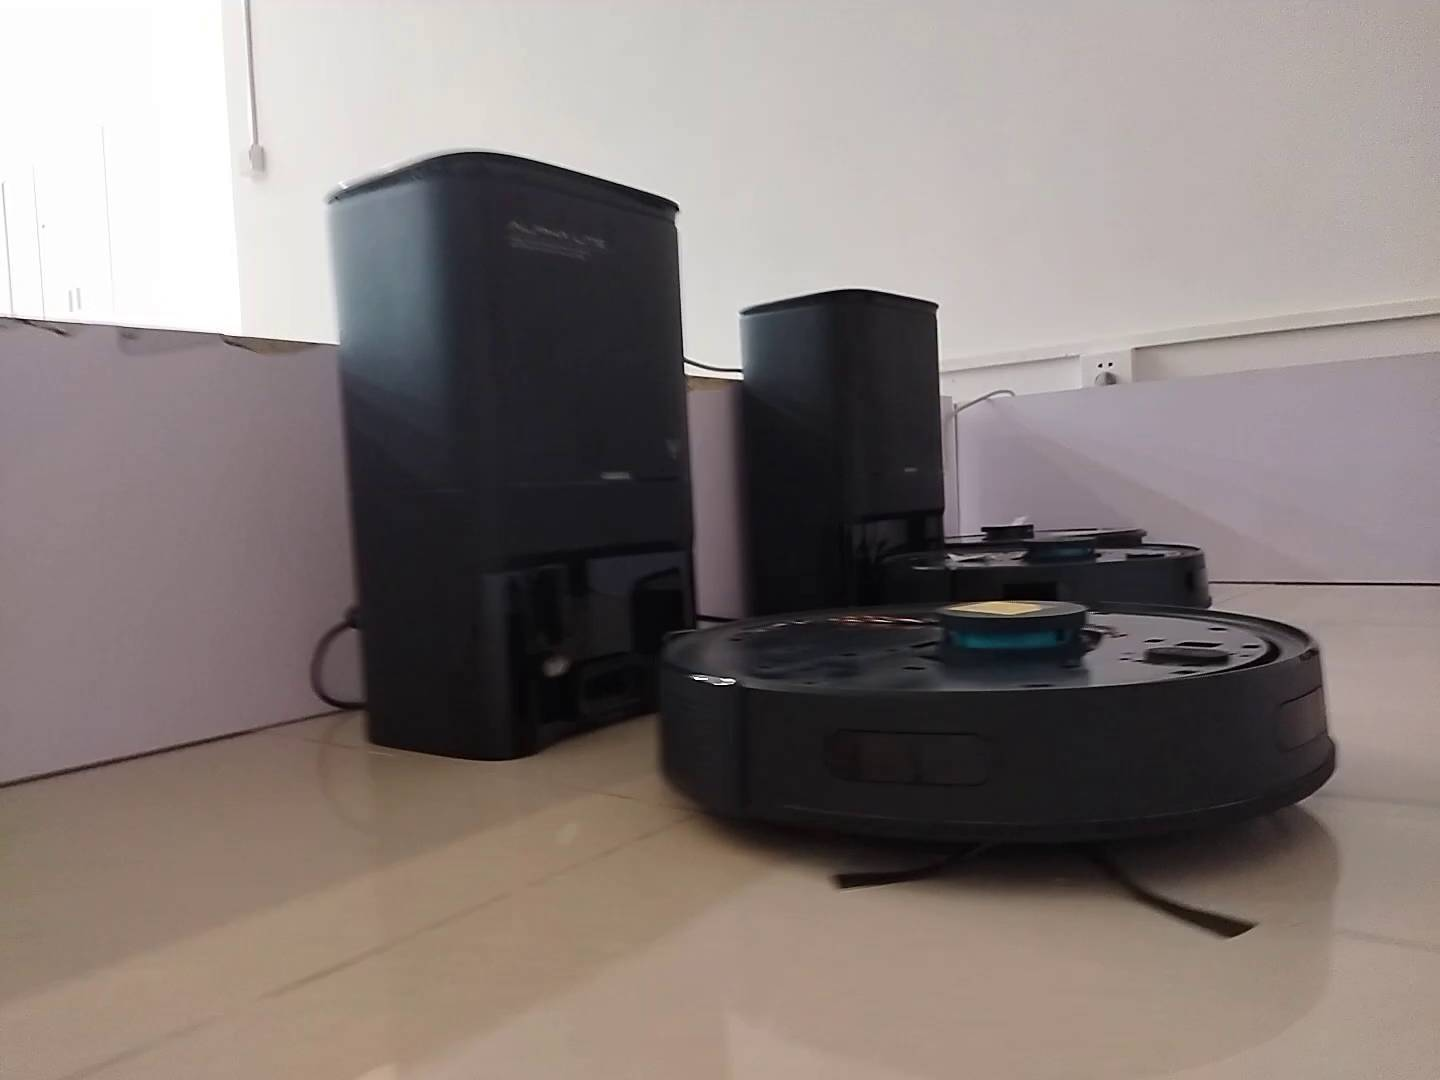dust collecting barrel: (328, 149, 703, 763), (742, 288, 945, 608)
